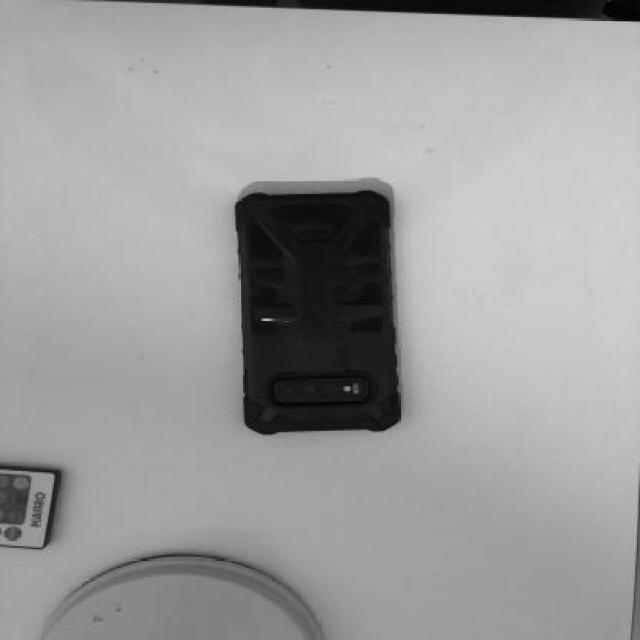fake: (236, 192, 398, 436)
